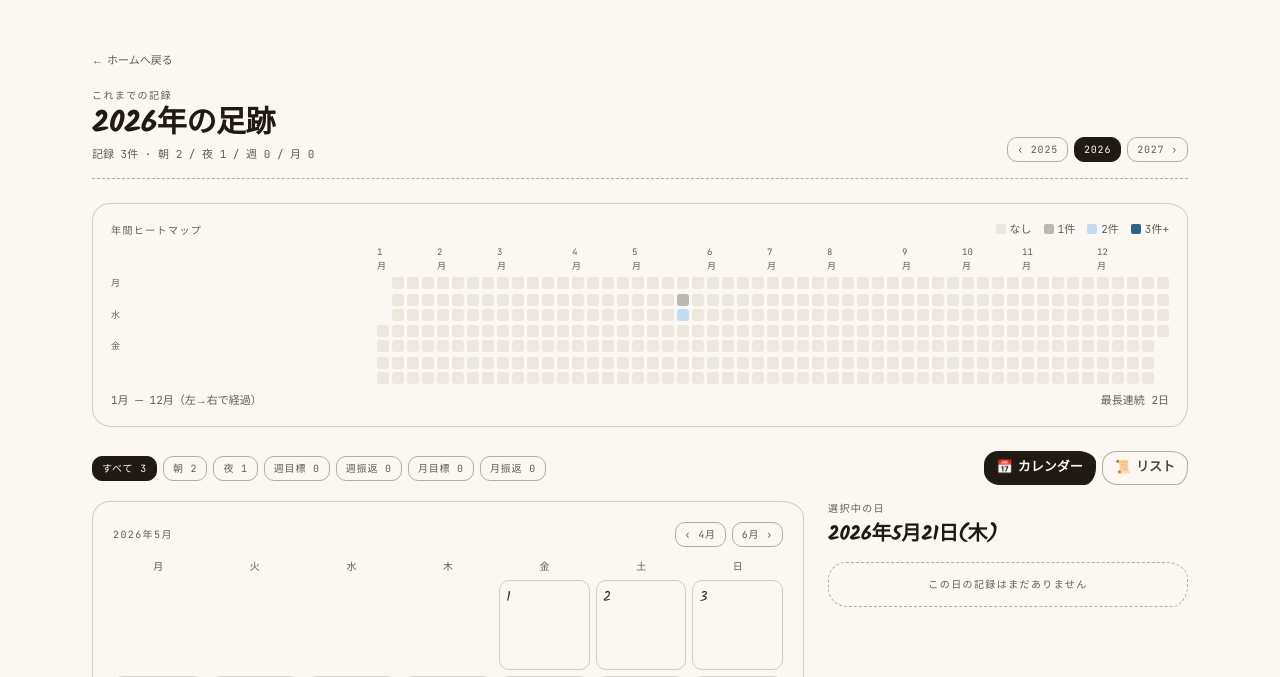
Test: HistoryClient › List ビューに切り替えると日付グループで表示される
Click the button "📜 リスト".
click(1145, 468)  # box [1102,451,1188,485]
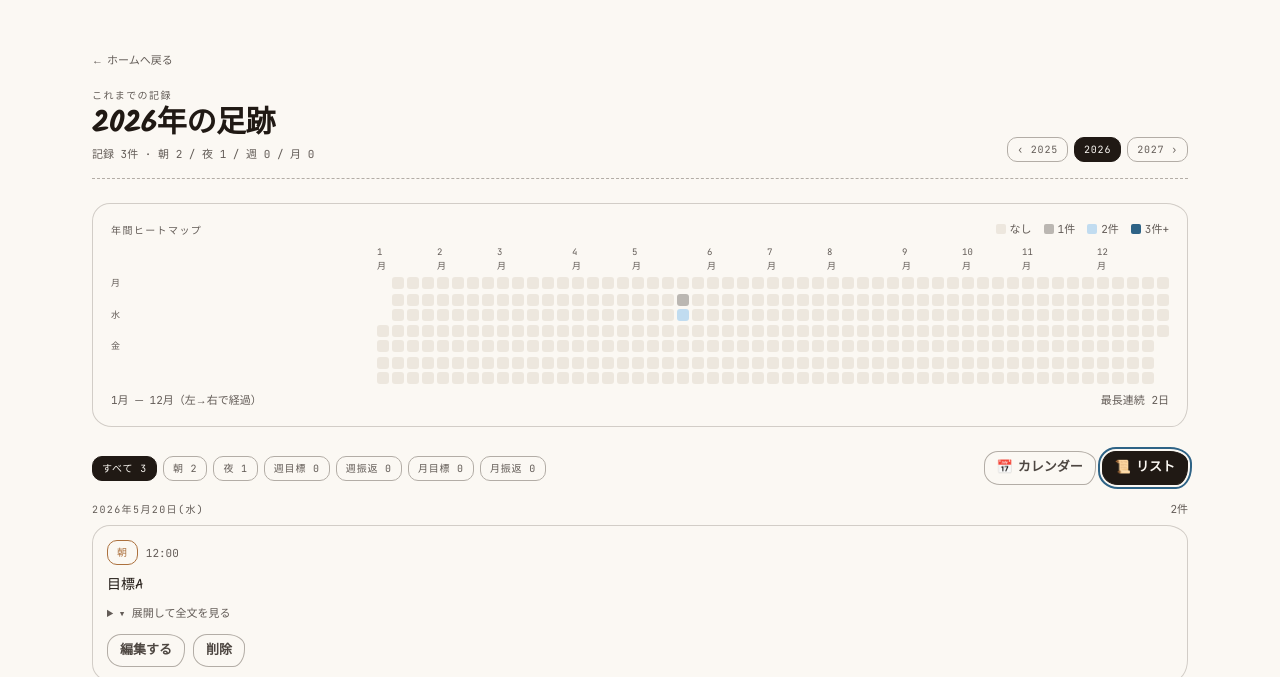
Now the number of elements "2026年5月" is 2
